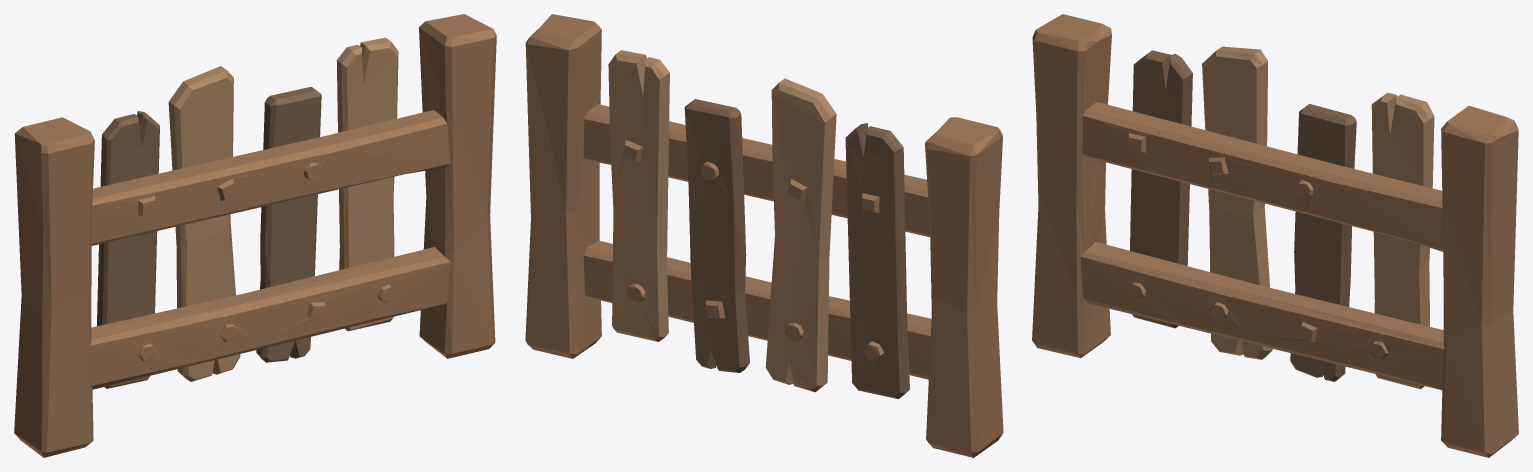
The model's file is WoodenFence.fbx.
3 views of the same model, side by side, from view 1: azimuth 30°, elevation 25°; view 2: azimuth 150°, elevation 25°; view 3: azimuth 330°, elevation 25° (orthographic).
Visible parts, largest first — view 1: WoodenFence; view 2: WoodenFence; view 3: WoodenFence.
Part boxes in pixels (x1,y1,x2,y2): WoodenFence: (14,14,496,457); WoodenFence: (525,14,1003,457); WoodenFence: (1032,14,1518,457).
Bounding box in the file's own units: 1.35 × 0.1631 × 0.9272.
